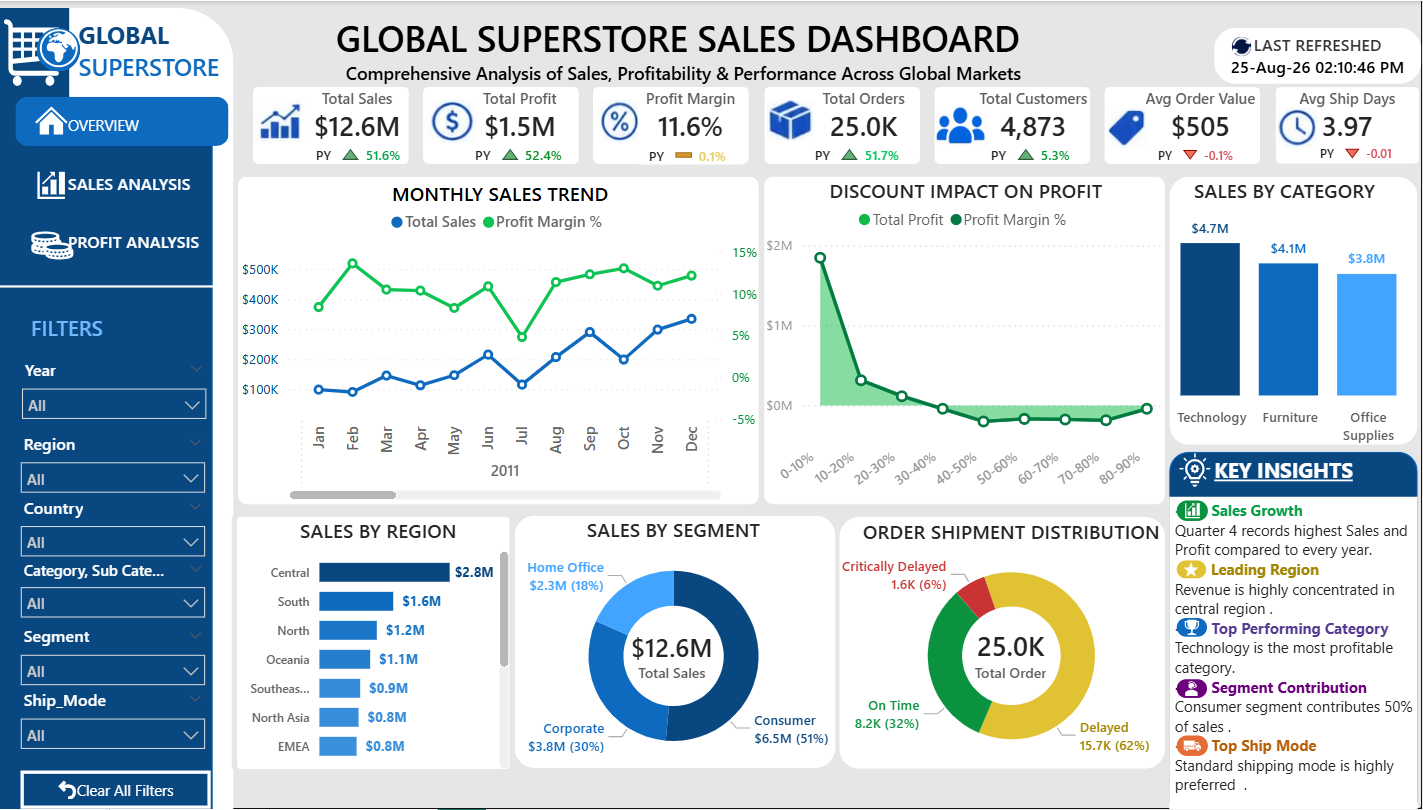

The dashboard page shown, as its layout file describes it:
{"tool":"powerbi","page":{"name":"OVERVIEW","canvas":[1280,720],"ordinal":0},"visuals":[{"type":"shape","box":[15.7,0,196,847.1],"z":0},{"type":"shape","box":[464.4,456.7,288.9,227],"z":1000},{"type":"actionButton","box":[25.6,678,152.2,34.4],"z":2000},{"type":"actionButton","box":[10.2,678.1,171,34.4],"z":3000},{"type":"donutChart","title":"SALES BY SEGMENT","fields":{"Y":["_Measures.Total Sales"],"Category":["Dim_Customer.Segment"]},"box":[448.9,457.8,315.6,227.8],"z":4000},{"type":"slicer","fields":{"Values":["Dim_Product.Category","Dim_Product.Sub_Category"]},"box":[0,481.5,185.9,60],"z":5000},{"type":"slicer","fields":{"Values":["Dim_Product.Category","Dim_Product.Sub_Category"]},"box":[16.7,479,161.2,60],"z":6000},{"type":"slicer","fields":{"Values":["Dim_Geography.Region"]},"box":[0,366.5,185.9,60],"z":7000},{"type":"slicer","fields":{"Values":["Dim_Ship.Ship_Mode"]},"box":[0,596.5,185.9,60],"z":8000},{"type":"slicer","fields":{"Values":["Dim_Geography.Region"]},"box":[16.7,364,161.2,60],"z":9000},{"type":"slicer","fields":{"Values":["Dim_Customer.Segment"]},"box":[0,539,185.9,60],"z":10000},{"type":"slicer","fields":{"Values":["Dim_Geography.Country"]},"box":[0,424,185.9,60],"z":12000},{"type":"slicer","fields":{"Values":["Dim_Ship.Ship_Mode"]},"box":[16.7,594,161.2,60],"z":13000},{"type":"slicer","fields":{"Values":["Dim_Date.Year"]},"box":[1.3,300,185.7,60],"z":14000},{"type":"slicer","fields":{"Values":["Dim_Customer.Segment"]},"box":[16.7,536.5,161.2,60],"z":15000},{"type":"shape","box":[1053.3,398.9,223.3,315.6],"z":16000},{"type":"shape","box":[246,103,36,29.1],"z":17000},{"type":"slicer","fields":{"Values":["Dim_Geography.Country"]},"box":[16.7,421.5,161.2,60],"z":18000},{"type":"shape","box":[382.2,71,140.2,69.4],"z":20000},{"type":"shape","box":[229,71,140.2,69.4],"z":21000},{"type":"image","box":[1044.4,398.9,62.2,33.3],"z":22000},{"type":"textbox","box":[1093.6,402,153.8,40.7],"z":23000},{"type":"shape","box":[570,100.2,36.8,34.5],"z":24000},{"type":"tableEx","fields":{"Values":["Temp_Table.Column1","_Measures.YoY Profit Growth %"]},"box":[422.6,101,92.7,40.7],"z":25000},{"type":"shape","box":[735,101,38,33.4],"z":26000},{"type":"shape","box":[535.3,71,140.2,69.4],"z":27000},{"type":"shape","box":[892.7,103.3,38.3,31.8],"z":28000},{"type":"shape","box":[688.5,71,140.2,69.4],"z":29000},{"type":"shape","box":[1055.3,105,39.5,34],"z":30000},{"type":"shape","box":[1148,71,129.2,69.2],"z":31000},{"type":"shape","box":[841.7,71,140.2,69.4],"z":32000},{"type":"tableEx","fields":{"Values":["Temp_Table.Column1","_Measures.YoY Sales Growth %"]},"box":[263.5,100.6,105.4,39.5],"z":33000},{"type":"shape","box":[994.8,71,140.2,69.4],"z":34000},{"type":"textbox","box":[572.1,95,39.9,46],"z":35000},{"type":"tableEx","fields":{"Values":["Temp_Table.Column1","_Measures.YoY AVG Ship Days"]},"box":[1176,100,90,39.2],"z":36000},{"type":"image","box":[734,101.4,39,31],"z":37000},{"type":"tableEx","fields":{"Values":["Temp_Table.Column1","_Measures.YoY Profit Margin"]},"box":[575,102,94.7,39.3],"z":38000},{"type":"image","box":[887,100,51,40],"z":39000},{"type":"tableEx","fields":{"Values":["Temp_Table.Column1","_Measures.YoY Orders"]},"box":[726,101,96,38.7],"z":40000},{"type":"image","box":[1053,106,45,31],"z":41000},{"type":"tableEx","fields":{"Values":["Temp_Table.Column1","_Measures.YoY Customers"]},"box":[882,101,100,39],"z":42000},{"type":"tableEx","fields":{"Values":["Temp_Table.Column1","_Measures.YoY AVG Order Value"]},"box":[1032,101,95,39.3],"z":43000},{"type":"cardVisual","fields":{"Data":["_Measures.Total Sales"]},"box":[269.7,68,106,56.7],"z":44000},{"type":"shape","box":[0,117.9,193,729.5],"z":45000},{"type":"cardVisual","fields":{"Data":["_Measures.Average Ship Days"]},"box":[1155.6,68,113.1,56.9],"z":46000},{"type":"cardVisual","fields":{"Data":["_Measures.Profit Margin %"]},"box":[567,68,111,56.8],"z":47000},{"type":"textbox","box":[25,270.2,152.9,37.5],"z":48000},{"type":"cardVisual","fields":{"Data":["_Measures.Total Orders"]},"box":[728,68,100.7,56.7],"z":49000},{"type":"cardVisual","fields":{"Data":["_Measures.Total Customers"]},"box":[868,68,124,56.7],"z":50000},{"type":"cardVisual","fields":{"Data":["_Measures.Average Order Value"]},"box":[1016,68,130.7,56.7],"z":51000},{"type":"cardVisual","fields":{"Data":["_Measures.Total Profit"]},"box":[410,68,118.8,56.8],"z":52000},{"type":"image","box":[229.7,83.1,48.7,37.4],"z":53000},{"type":"image","box":[384,82.4,45.9,38.9],"z":54000},{"type":"image","box":[539,82.5,37.1,38.7],"z":55000},{"type":"image","box":[691,83.7,42,36],"z":56000},{"type":"image","box":[843,88.5,45.2,34.3],"z":57000},{"type":"image","box":[998,90,35.5,36],"z":58000},{"type":"image","box":[1148,90,38.5,35],"z":59000},{"type":"lineChart","title":"MONTHLY SALES TREND","fields":{"Category":["Dim_Date.Order_Date.Variation.Date Hierarchy.Year","Dim_Date.Month"],"Y":["_Measures.Total Sales"],"Y2":["_Measures.Profit Margin %"]},"box":[215.6,152.2,467.8,294.4],"z":60000},{"type":"stackedAreaChart","title":"DISCOUNT IMPACT ON PROFIT","fields":{"Category":["Fact_Sales.Discount_Range"],"Y":["_Measures.Total Profit","_Measures.Profit Margin %"]},"box":[688.9,152.2,360,294.4],"z":61000},{"type":"shape","box":[0,0,64,144],"z":62000},{"type":"image","box":[0,0,64.3,80],"z":63000},{"type":"textbox","box":[67,5,148.7,80],"z":63500},{"type":"textbox","box":[299,0,646,80],"z":64000},{"type":"shape","box":[16.2,79.6,191.6,44.2],"z":66000},{"type":"pageNavigator","box":[63.4,84,168,148.8],"z":67000},{"type":"image","box":[0,196.7,95.6,33.3],"z":68000},{"type":"image","box":[0,84.4,95.6,33.3],"z":69000},{"type":"image","box":[0,142.2,95.6,33.3],"z":70000},{"type":"shape","box":[0,246.5,194.4,8.5],"z":71000},{"type":"pageNavigator","box":[0,83.6,194.5,149.1],"z":72000},{"type":"cardVisual","fields":{"Data":["_Measures.Total Sales"]},"box":[546.7,541.1,117.8,81.1],"z":73000},{"type":"actionButton","box":[20.2,685.6,171,34.4],"z":74000},{"type":"slicer","fields":{"Values":["Dim_Product.Category","Dim_Product.Sub_Category"]},"box":[10,491.5,185.9,60],"z":75000},{"type":"slicer","fields":{"Values":["Dim_Geography.Region"]},"box":[10,376.5,185.9,60],"z":76000},{"type":"slicer","fields":{"Values":["Dim_Ship.Ship_Mode"]},"box":[10,606.5,185.9,60],"z":77000},{"type":"slicer","fields":{"Values":["Dim_Customer.Segment"]},"box":[10,549,185.9,60],"z":78000},{"type":"slicer","fields":{"Values":["Dim_Geography.Country"]},"box":[10,434,185.9,60],"z":79000},{"type":"slicer","fields":{"Values":["Dim_Date.Year"]},"box":[11.3,310,185.7,60],"z":80000},{"type":"textbox","title":"---KEY INSIGHTS","box":[1053.3,438.9,223.3,287.8],"z":81000},{"type":"clusteredBarChart","title":"SALES BY REGION","fields":{"Category":["Dim_Geography.Region"],"Y":["Sum(Fact_Sales.Sales)"]},"box":[210,453,254,236],"z":82000},{"type":"shape","box":[756,457,293,226.7],"z":83000},{"type":"image","box":[1059.2,443,28,18],"z":84000},{"type":"shape","box":[1053.3,152.2,223.3,241.1],"z":85000},{"type":"clusteredColumnChart","title":"SALES BY CATEGORY","fields":{"Category":["Dim_Product.Category"],"Y":["_Measures.Total Sales"]},"box":[1025,152.2,264.4,242.2],"z":86000},{"type":"image","box":[1059.2,497,26,16],"z":87000},{"type":"image","box":[1059.2,548,27,17],"z":88000},{"type":"image","box":[1059.2,603,27,17],"z":89000},{"type":"image","box":[1059.2,654,28,18],"z":90000},{"type":"donutChart","title":"ORDER SHIPMENT DISTRIBUTION","fields":{"Category":["Dim_Ship.Ship_Status"],"Y":["_Measures.Total Orders"]},"box":[758,456,305,227],"z":91000},{"type":"cardVisual","fields":{"Data":["_Measures.Total Orders"]},"box":[852,540,117.8,81.1],"z":92000},{"type":"cardVisual","fields":{"Data":["Max(Last Refresh.Last Refresh)"]},"box":[1093.3,18,186.5,50.6],"z":93000},{"type":"image","box":[1109,25.8,18,18],"z":94000},{"type":"shape","box":[35,18,39,39],"z":94250},{"type":"image","box":[31.7,15,46.1,43.2],"z":94500}]}

Visuals, with their boxes in screenshot pixels (x1, y1, x2, y2), scaled from the page's 1280x720 canvas onto the 1423x810 screenshot:
shape: region(17, 0, 235, 809)
shape: region(516, 514, 837, 769)
actionButton: region(28, 763, 198, 801)
actionButton: region(11, 763, 201, 802)
"SALES BY SEGMENT" donutChart: region(499, 515, 850, 771)
slicer - Dim_Product.Category x Dim_Product.Sub_Category: region(0, 542, 207, 609)
slicer - Dim_Product.Category x Dim_Product.Sub_Category: region(19, 539, 198, 606)
slicer - Dim_Geography.Region: region(0, 412, 207, 480)
slicer - Dim_Ship.Ship_Mode: region(0, 671, 207, 739)
slicer - Dim_Geography.Region: region(19, 410, 198, 477)
slicer - Dim_Customer.Segment: region(0, 606, 207, 674)
slicer - Dim_Geography.Country: region(0, 477, 207, 544)
slicer - Dim_Ship.Ship_Mode: region(19, 668, 198, 736)
slicer - Dim_Date.Year: region(1, 338, 208, 405)
slicer - Dim_Customer.Segment: region(19, 604, 198, 671)
shape: region(1171, 449, 1419, 804)
shape: region(273, 116, 314, 149)
slicer - Dim_Geography.Country: region(19, 474, 198, 542)
shape: region(425, 80, 581, 158)
shape: region(255, 80, 410, 158)
image: region(1161, 449, 1230, 486)
textbox: region(1216, 452, 1387, 498)
shape: region(634, 113, 675, 152)
tableEx - Temp_Table.Column1 x _Measures.YoY Profit Growth %: region(470, 114, 573, 159)
shape: region(817, 114, 859, 151)
shape: region(595, 80, 751, 158)
shape: region(992, 116, 1035, 152)
shape: region(765, 80, 921, 158)
shape: region(1173, 118, 1217, 156)
shape: region(1276, 80, 1420, 158)
shape: region(936, 80, 1092, 158)
tableEx - Temp_Table.Column1 x _Measures.YoY Sales Growth %: region(293, 113, 410, 158)
shape: region(1106, 80, 1262, 158)
textbox: region(636, 107, 680, 159)
tableEx - Temp_Table.Column1 x _Measures.YoY AVG Ship Days: region(1307, 112, 1407, 157)
image: region(816, 114, 859, 149)
tableEx - Temp_Table.Column1 x _Measures.YoY Profit Margin: region(639, 115, 745, 159)
image: region(986, 112, 1043, 158)
tableEx - Temp_Table.Column1 x _Measures.YoY Orders: region(807, 114, 914, 157)
image: region(1171, 119, 1221, 154)
tableEx - Temp_Table.Column1 x _Measures.YoY Customers: region(981, 114, 1092, 158)
tableEx - Temp_Table.Column1 x _Measures.YoY AVG Order Value: region(1147, 114, 1253, 158)
cardVisual - _Measures.Total Sales: region(300, 76, 418, 140)
shape: region(0, 133, 215, 809)
cardVisual - _Measures.Average Ship Days: region(1285, 76, 1410, 141)
cardVisual - _Measures.Profit Margin %: region(630, 76, 754, 140)
textbox: region(28, 304, 198, 346)
cardVisual - _Measures.Total Orders: region(809, 76, 921, 140)
cardVisual - _Measures.Total Customers: region(965, 76, 1103, 140)
cardVisual - _Measures.Average Order Value: region(1130, 76, 1275, 140)
cardVisual - _Measures.Total Profit: region(456, 76, 588, 140)
image: region(255, 93, 310, 136)
image: region(427, 93, 478, 136)
image: region(599, 93, 640, 136)
image: region(768, 94, 815, 135)
image: region(937, 100, 987, 138)
image: region(1109, 101, 1149, 142)
image: region(1276, 101, 1319, 141)
"MONTHLY SALES TREND" lineChart: region(240, 171, 760, 502)
"DISCOUNT IMPACT ON PROFIT" stackedAreaChart: region(766, 171, 1166, 502)
shape: region(0, 0, 71, 162)
image: region(0, 0, 71, 90)
textbox: region(74, 6, 240, 96)
textbox: region(332, 0, 1051, 90)
shape: region(18, 90, 231, 139)
pageNavigator: region(70, 94, 257, 262)
image: region(0, 221, 106, 259)
image: region(0, 95, 106, 132)
image: region(0, 160, 106, 197)
shape: region(0, 277, 216, 287)
pageNavigator: region(0, 94, 216, 262)
cardVisual - _Measures.Total Sales: region(608, 609, 739, 700)
actionButton: region(22, 771, 213, 809)
slicer - Dim_Product.Category x Dim_Product.Sub_Category: region(11, 553, 218, 620)
slicer - Dim_Geography.Region: region(11, 424, 218, 491)
slicer - Dim_Ship.Ship_Mode: region(11, 682, 218, 750)
slicer - Dim_Customer.Segment: region(11, 618, 218, 685)
slicer - Dim_Geography.Country: region(11, 488, 218, 556)
slicer - Dim_Date.Year: region(13, 349, 219, 416)
"---KEY INSIGHTS" textbox: region(1171, 494, 1419, 809)
"SALES BY REGION" clusteredBarChart: region(233, 510, 516, 775)
shape: region(840, 514, 1166, 769)
image: region(1178, 498, 1209, 519)
shape: region(1171, 171, 1419, 442)
"SALES BY CATEGORY" clusteredColumnChart: region(1140, 171, 1422, 444)
image: region(1178, 559, 1206, 577)
image: region(1178, 616, 1208, 636)
image: region(1178, 678, 1208, 698)
image: region(1178, 736, 1209, 756)
"ORDER SHIPMENT DISTRIBUTION" donutChart: region(843, 513, 1182, 768)
cardVisual - _Measures.Total Orders: region(947, 608, 1078, 699)
cardVisual - Max(Last Refresh.Last Refresh): region(1215, 20, 1422, 77)
image: region(1233, 29, 1253, 49)
shape: region(39, 20, 82, 64)
image: region(35, 17, 86, 65)
